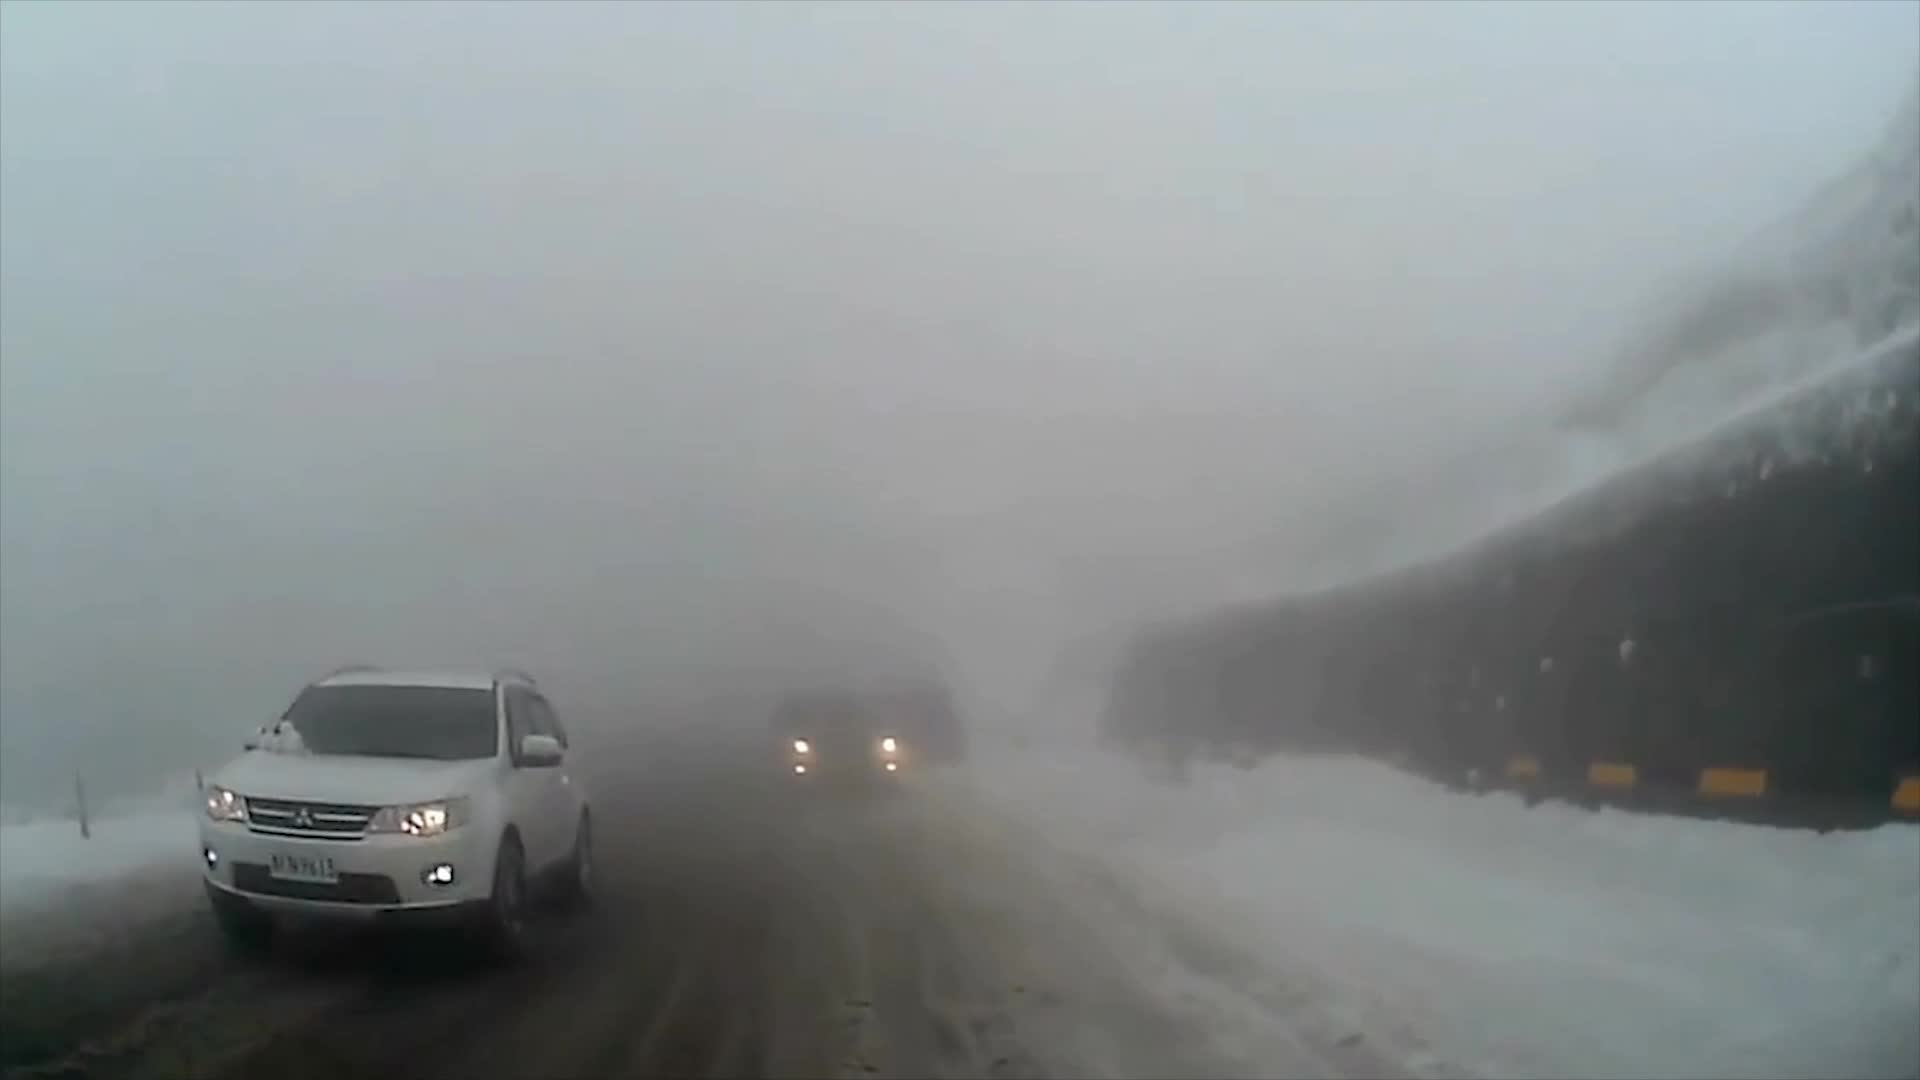vehicle: (193, 663, 597, 957), (760, 691, 905, 804)
